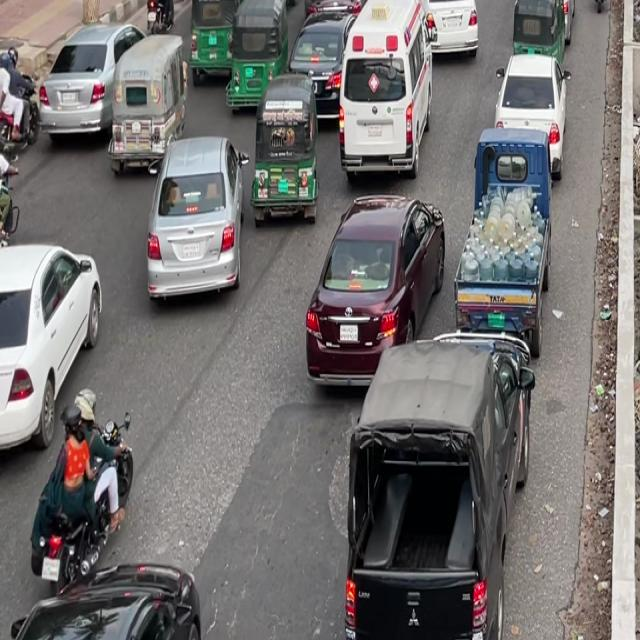car: (319, 326, 538, 635), (298, 175, 450, 404), (0, 222, 111, 485), (130, 123, 255, 324), (329, 0, 443, 195), (450, 180, 558, 372), (31, 8, 142, 158), (486, 42, 575, 182), (287, 13, 352, 129), (415, 0, 485, 72), (361, 0, 417, 15)
motorbike: (22, 386, 153, 595), (0, 43, 41, 173), (141, 0, 181, 39), (586, 0, 612, 15)
rickshaw: (101, 29, 196, 187), (244, 70, 325, 238), (221, 0, 291, 121), (187, 0, 248, 92), (508, 0, 572, 80)
